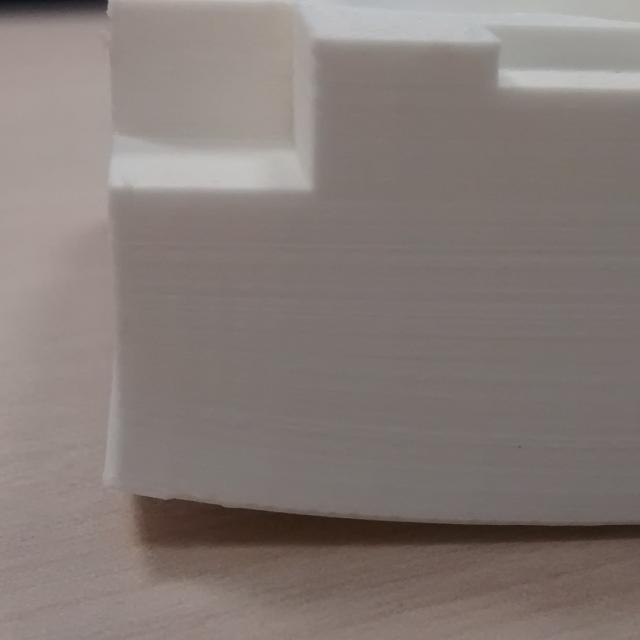Warping: (92, 464, 470, 560)
